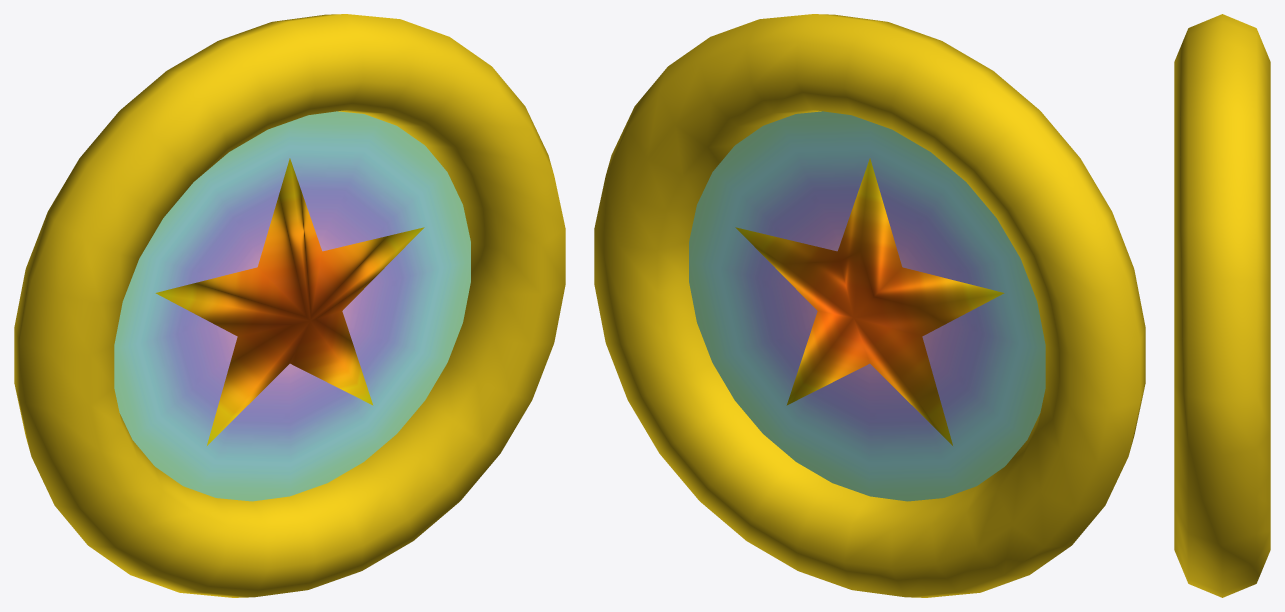
Rendered from GoalRing.fbx.
3 renders of one model, left to right at view 1: azimuth 30°, elevation 25°; view 2: azimuth 150°, elevation 25°; view 3: azimuth 270°, elevation 25°, orthographic. The views are drawn at different scales.
Visible parts, largest first — view 1: cmn_obj_goalring.001; view 2: cmn_obj_goalring.001; view 3: cmn_obj_goalring.001.
Boxes of the visible parts, box(x1,y1,x2,y2) form: cmn_obj_goalring.001: box(14, 14, 565, 597); cmn_obj_goalring.001: box(594, 14, 1145, 597); cmn_obj_goalring.001: box(1174, 14, 1270, 597).
Bounding box in the file's own units: 398 × 400 × 66.22.
1 material, 1 textured.
